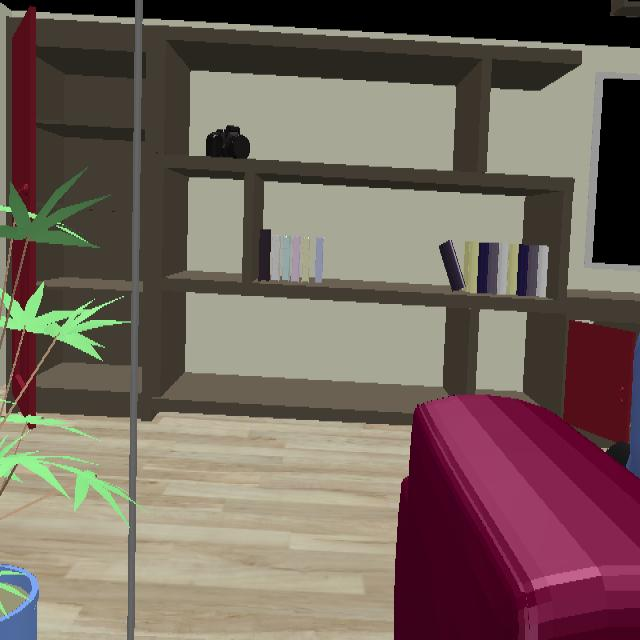book: (440, 240, 554, 297), (261, 229, 325, 283)
bookshelf: (7, 11, 640, 421)
monitor: (593, 76, 640, 269)
sofa: (393, 392, 640, 640)
